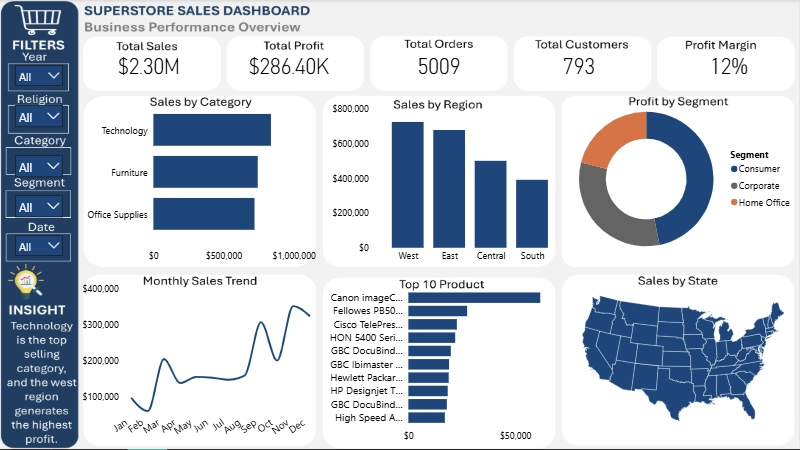

The page's visual inventory and layout, read from the dashboard file:
{"tool":"powerbi","page":{"name":"Page 1","canvas":[1280,720],"ordinal":0},"visuals":[{"type":"clusteredBarChart","fields":{"Category":["Sample - Superstore.Category"],"Y":["Sample - Superstore.Total Sales"]},"box":[128,144,384,288],"z":0},{"type":"clusteredColumnChart","fields":{"Category":["Sample - Superstore.Region"],"Y":["Sample - Superstore.Total Sales"]},"box":[528,160,384,272],"z":1000},{"type":"donutChart","fields":{"Category":["Sample - Superstore.Segment"],"Y":["Sum(Sample - Superstore.Profit)"]},"box":[896,144,384,288],"z":2000},{"type":"lineChart","fields":{"Y":["Sum(Sample - Superstore.Sales)"],"Category":["Date Table.Month Name"]},"box":[128,448,384,272],"z":3000},{"type":"barChart","fields":{"Category":["Sample - Superstore.Product Name"],"Y":["Sum(Sample - Superstore.Sales)"]},"box":[512,448,448,272],"z":4000},{"type":"shapeMap","fields":{"Category":["Sample - Superstore.State"],"Series":["Sample - Superstore.Sales"]},"box":[896,432,384,288],"z":5000},{"type":"card","fields":{"Values":["Sample - Superstore.Total Sales"]},"box":[128,64,224,80],"z":5001},{"type":"card","fields":{"Values":["Sample - Superstore.Toal Customers"]},"box":[816,64,224,80],"z":5002},{"type":"card","fields":{"Values":["Sample - Superstore.Profit Margin"]},"box":[1056,64,224,80],"z":5003},{"type":"card","fields":{"Values":["Sample - Superstore.Total Profit"]},"box":[352,64,224,80],"z":5004},{"type":"card","fields":{"Values":["Sample - Superstore.Total Orders"]},"box":[592,64,224,80],"z":5005},{"type":"slicer","fields":{"Values":["Date Table.Year"]},"box":[16,96,96,48],"z":5006},{"type":"slicer","fields":{"Values":["Sample - Superstore.Segment"]},"box":[16,304,96,48],"z":5007},{"type":"slicer","fields":{"Values":["Date Table.Date"]},"box":[16,368,96,48],"z":5008},{"type":"slicer","fields":{"Values":["Sample - Superstore.Region"]},"box":[16,160,96,48],"z":5009},{"type":"slicer","fields":{"Values":["Sample - Superstore.Category"]},"box":[16,240,96,48],"z":5010}]}

Visuals, with their boxes in screenshot pixels (x1, y1, x2, y2), scaled from the page's 1280x720 canvas onto the 800x450 screenshot:
clusteredBarChart - Sample - Superstore.Category x Sample - Superstore.Total Sales: 80,90,320,270
clusteredColumnChart - Sample - Superstore.Region x Sample - Superstore.Total Sales: 330,100,570,270
donutChart - Sample - Superstore.Segment x Sum(Sample - Superstore.Profit): 560,90,799,270
lineChart - Sum(Sample - Superstore.Sales) x Date Table.Month Name: 80,280,320,449
barChart - Sample - Superstore.Product Name x Sum(Sample - Superstore.Sales): 320,280,600,449
shapeMap - Sample - Superstore.State x Sample - Superstore.Sales: 560,270,799,449
card - Sample - Superstore.Total Sales: 80,40,220,90
card - Sample - Superstore.Toal Customers: 510,40,650,90
card - Sample - Superstore.Profit Margin: 660,40,799,90
card - Sample - Superstore.Total Profit: 220,40,360,90
card - Sample - Superstore.Total Orders: 370,40,510,90
slicer - Date Table.Year: 10,60,70,90
slicer - Sample - Superstore.Segment: 10,190,70,220
slicer - Date Table.Date: 10,230,70,260
slicer - Sample - Superstore.Region: 10,100,70,130
slicer - Sample - Superstore.Category: 10,150,70,180
